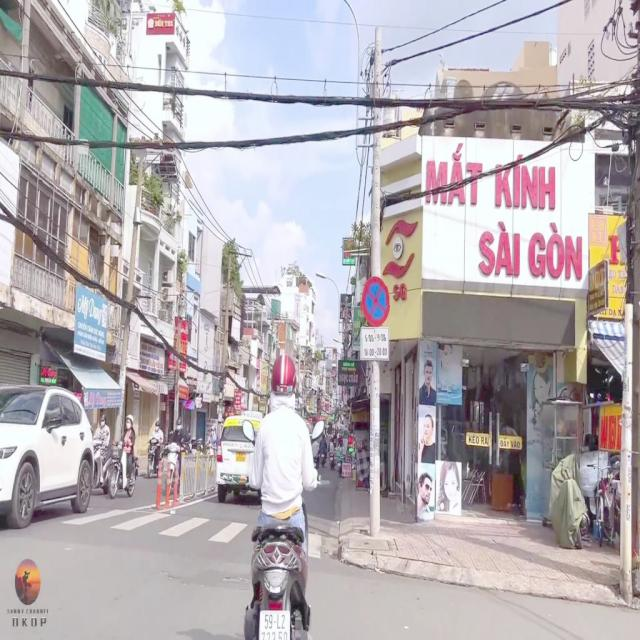cam_dung_xe_va_do_xe: (360, 276, 390, 326)
khac: (361, 328, 388, 358)
